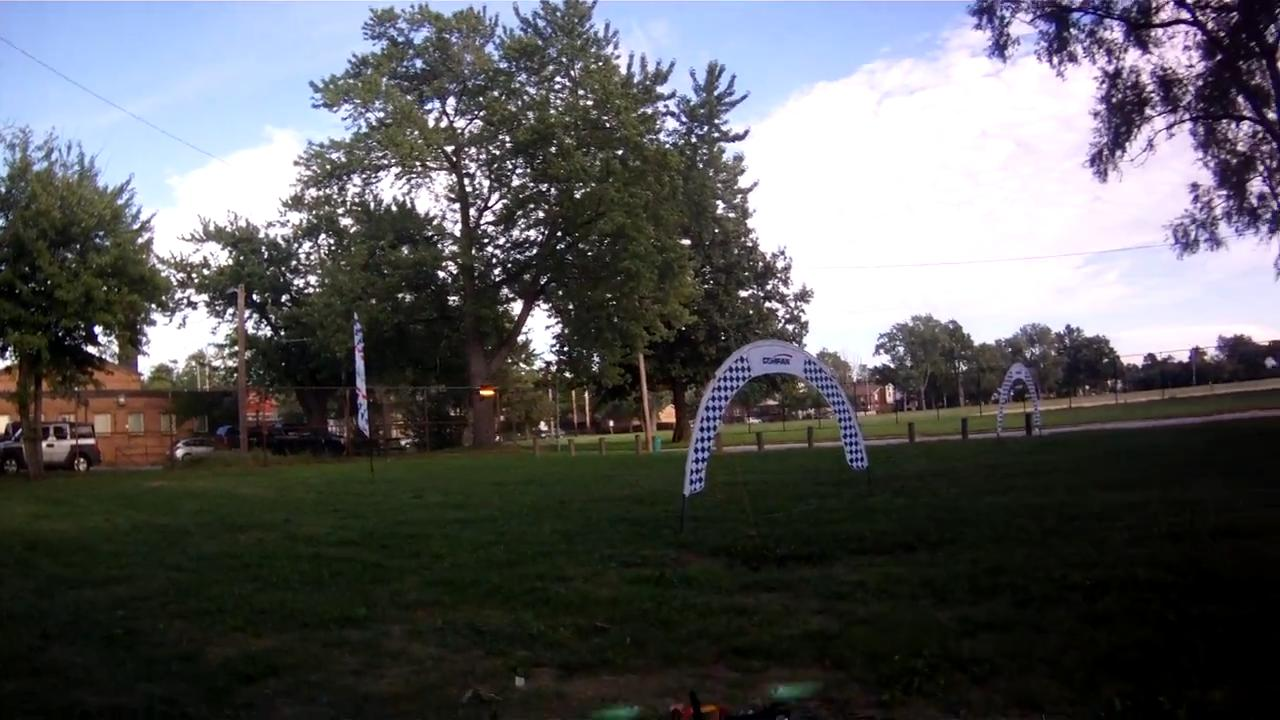gate: (681, 335, 871, 498)
